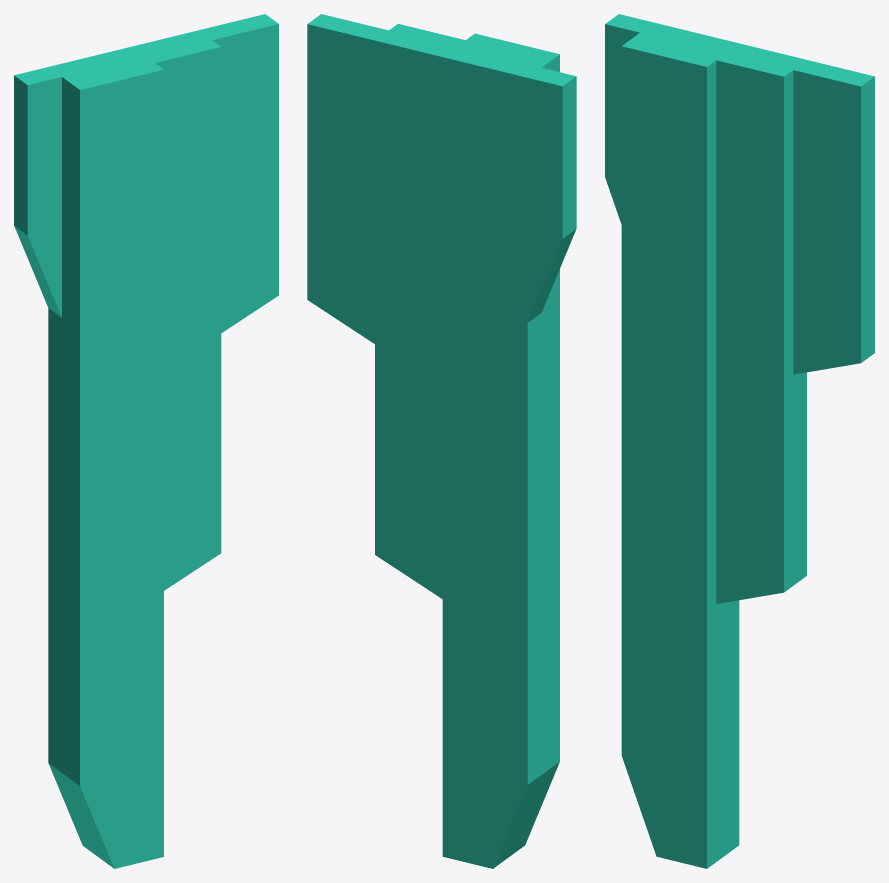
Rendered from hanging_moss.dae.
3 renders of one model, left to right at view 1: azimuth 30°, elevation 25°; view 2: azimuth 150°, elevation 25°; view 3: azimuth 330°, elevation 25°, orthographic.
Visible parts, largest first — view 1: hanging_moss; view 2: hanging_moss; view 3: hanging_moss.
Boxes of the visible parts, x1,y1,x2,y2 form: hanging_moss: [14, 14, 278, 868]; hanging_moss: [307, 14, 576, 868]; hanging_moss: [605, 14, 874, 868].
Size of the model in its own units: 0.1598 by 0.4785 by 0.035.
